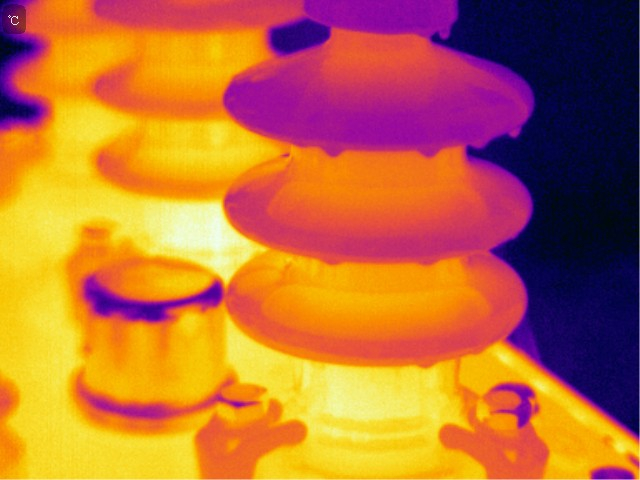Oil: (415, 142, 444, 160), (320, 141, 346, 159), (412, 253, 444, 266), (318, 256, 348, 269), (469, 135, 490, 153), (413, 356, 439, 370), (437, 24, 453, 42), (507, 123, 525, 139)
